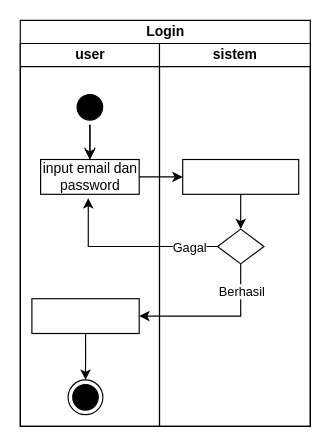
This 331x447 diagram has some shape labels left out. The shapes that lost their labels are listed below. From the top down, each one's centre as x and y in pixels, then its label:
[240,176]: Validasi
[85,316]: home
